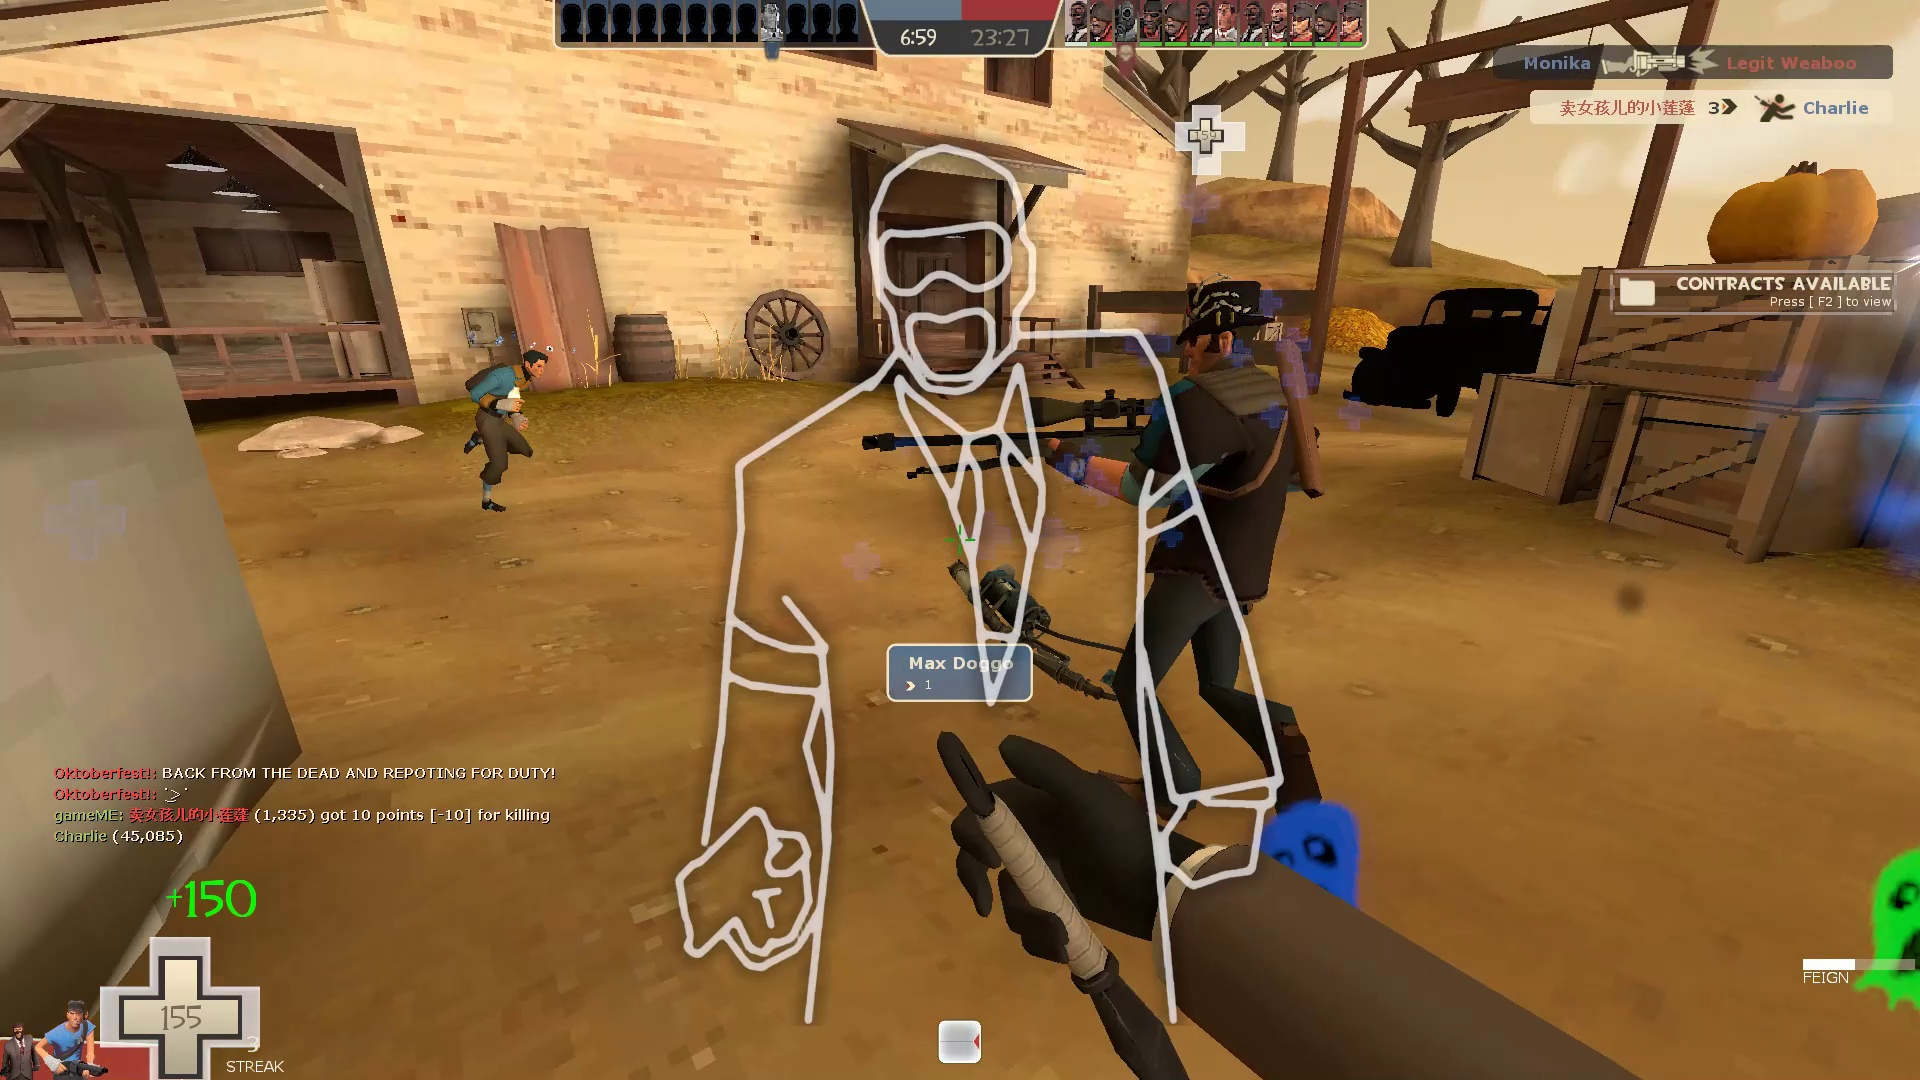blu_scout: (446, 342, 568, 520)
blu_sniper: (852, 262, 1329, 829)
